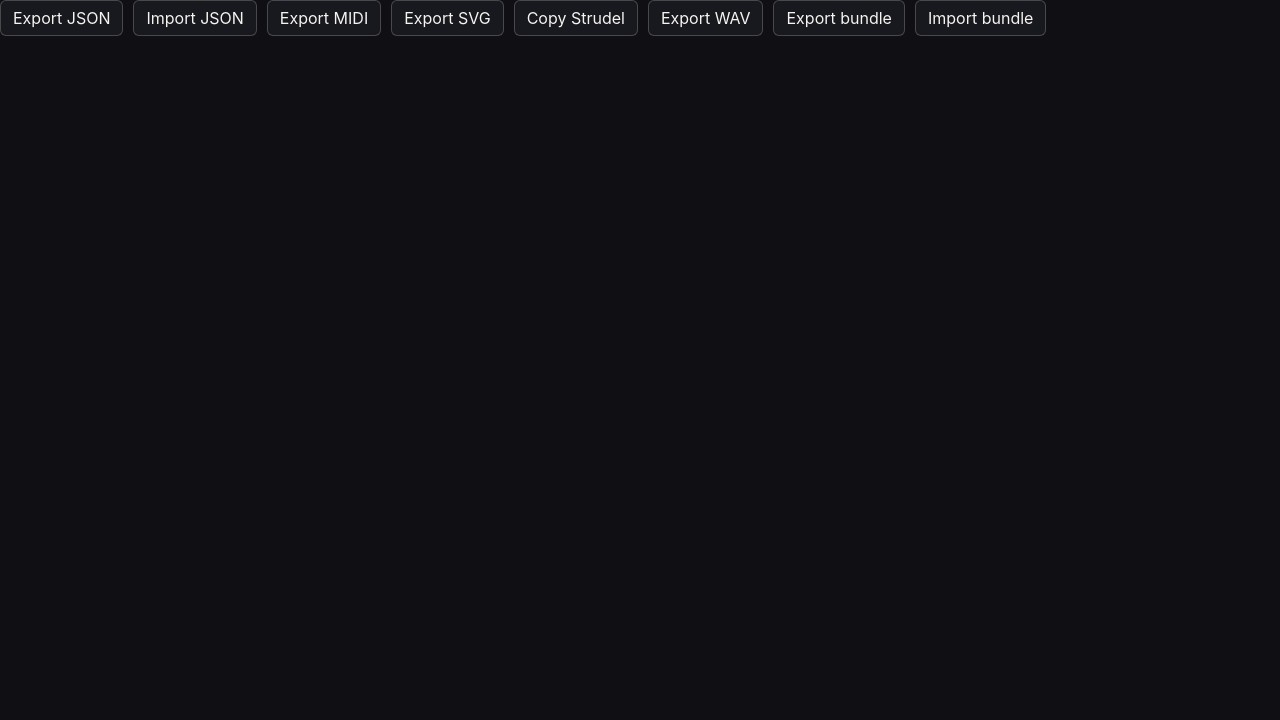
it: ImportExportPanel bundle dialog › closes without exporting, keeping the choice for next time
Click the button "Export bundle" at (839, 18), box [774,0,905,36]
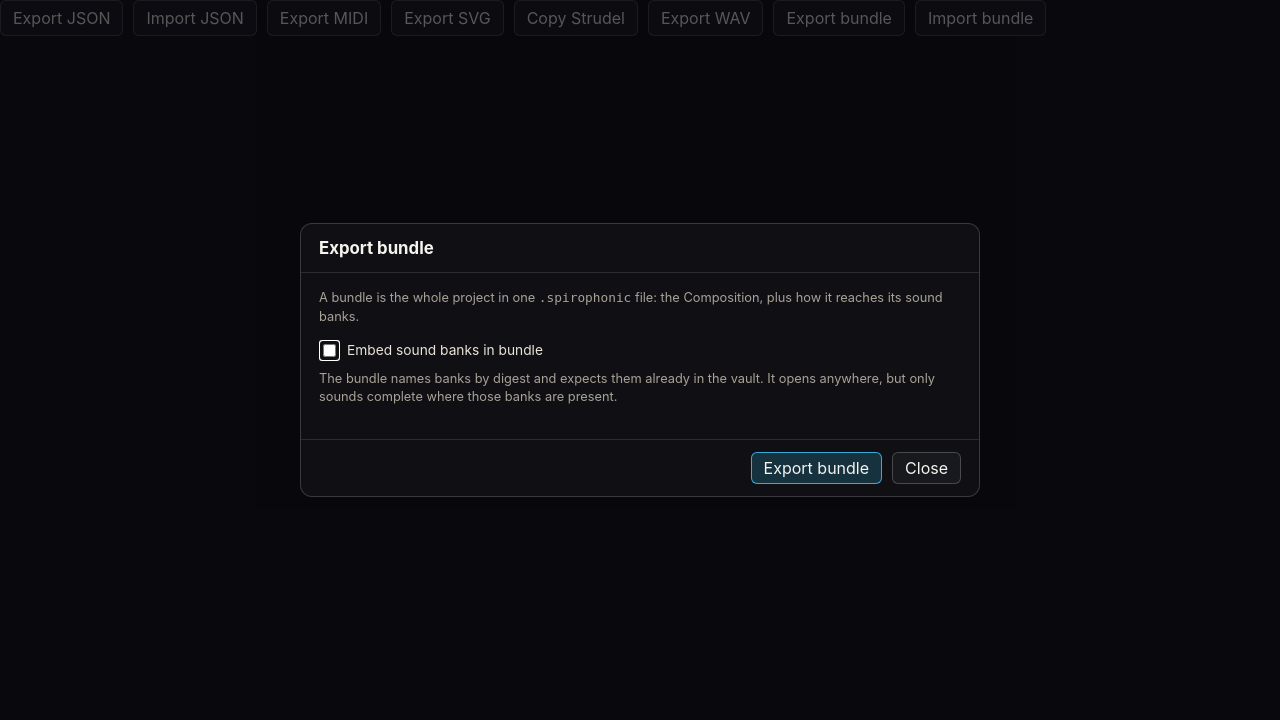
Click the checkbox labelled "Embed sound banks in bundle" at (330, 350), box [323,344,336,356]
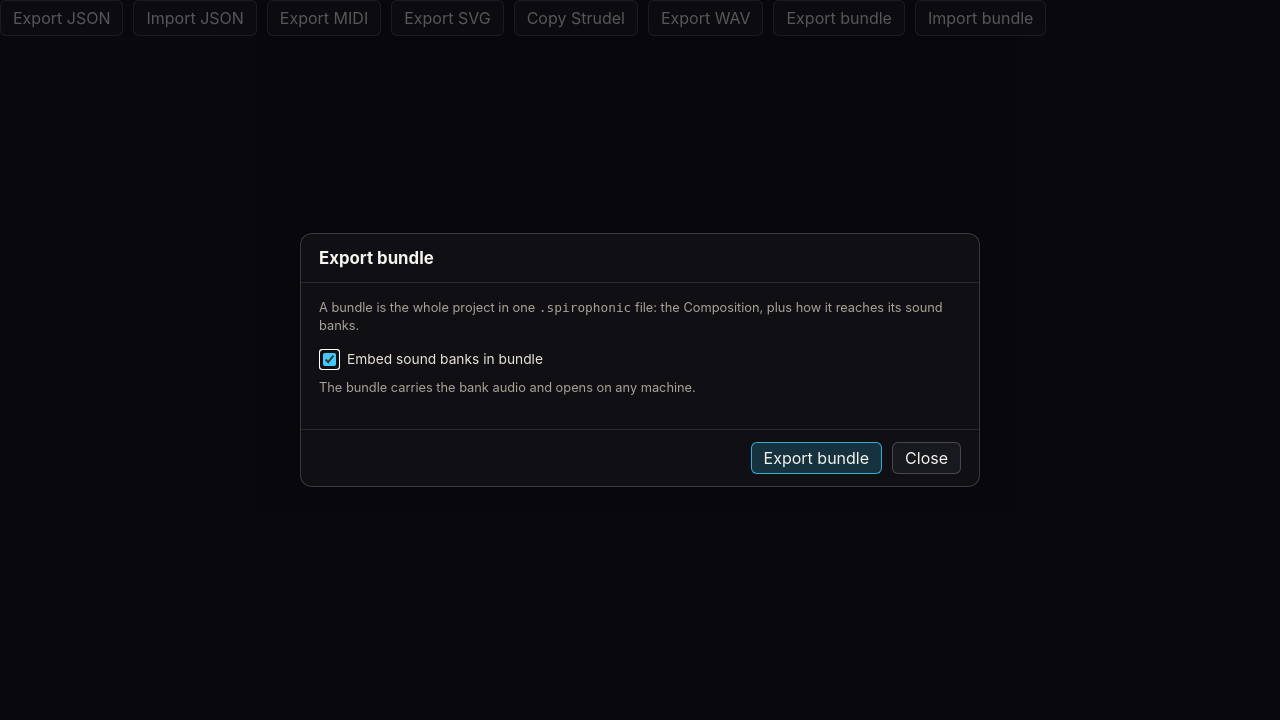
Click the button with aria-label "Close export bundle" at (927, 458), box [892,442,961,474]
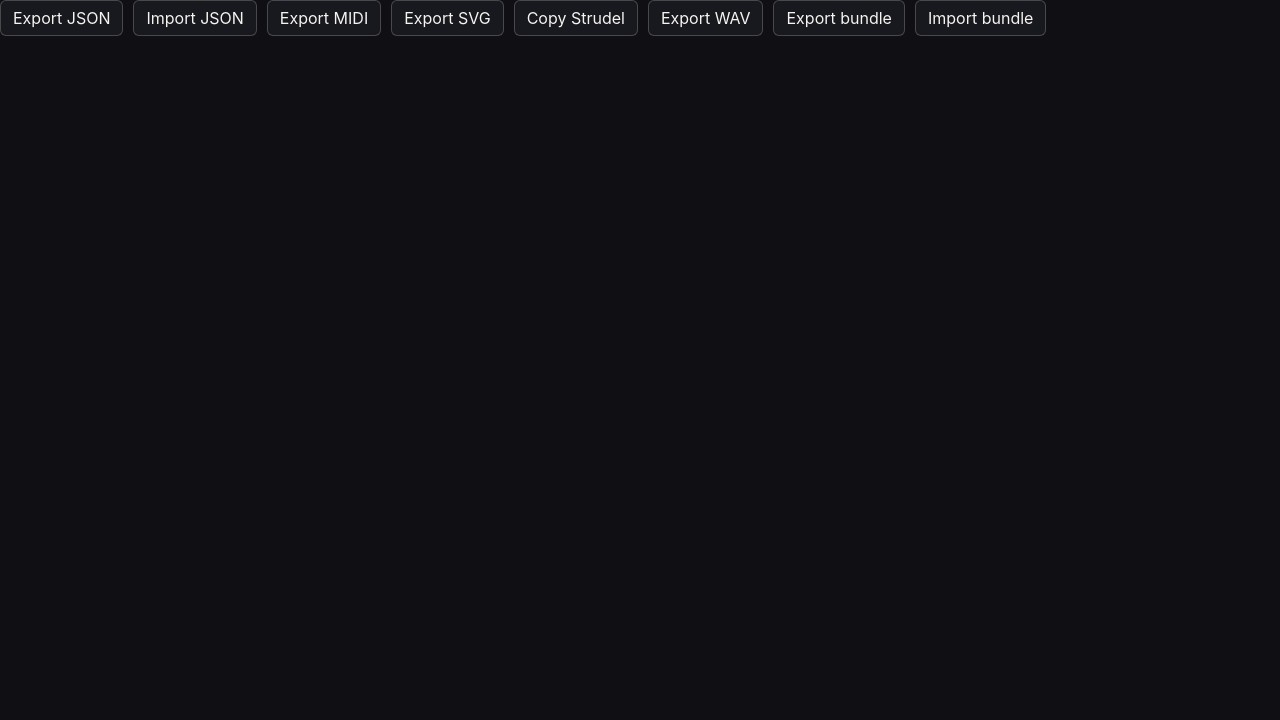
Now the label labelled "Embed sound banks in bundle" is gone
Click the button "Export bundle" at (839, 18), box [774,0,905,36]
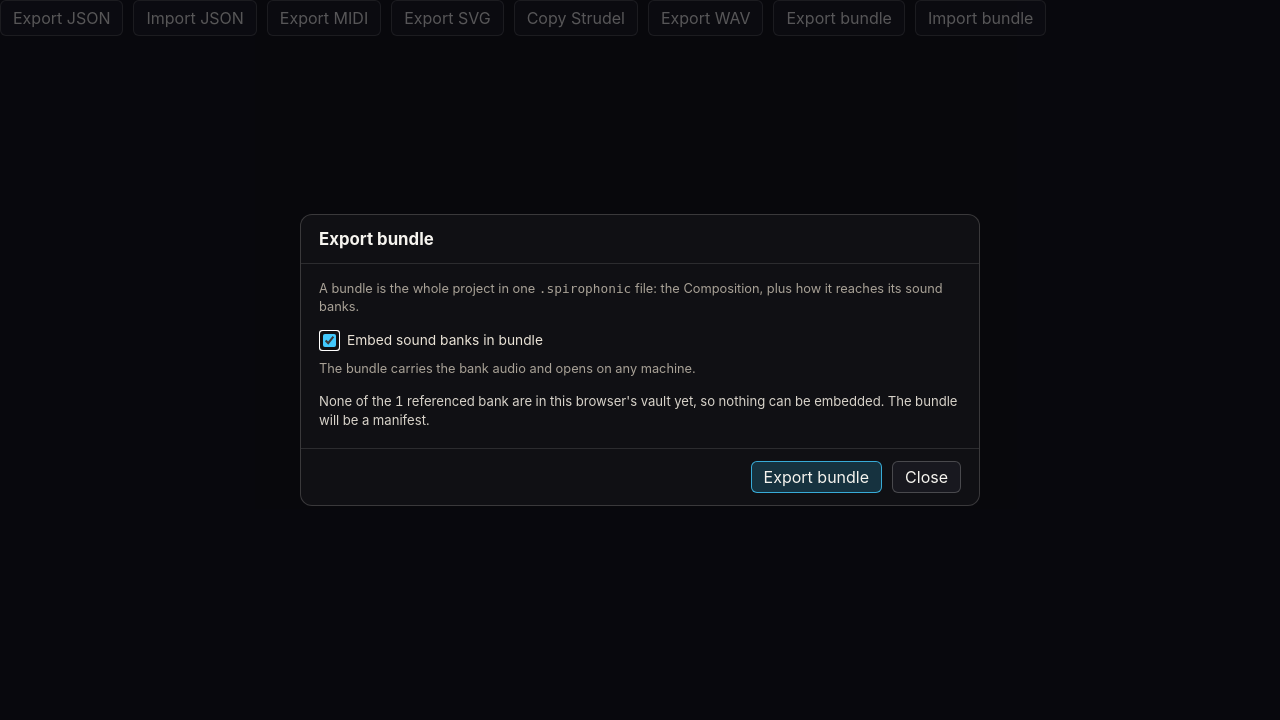
Now the checkbox labelled "Embed sound banks in bundle" is checked, box [323,334,336,347]
